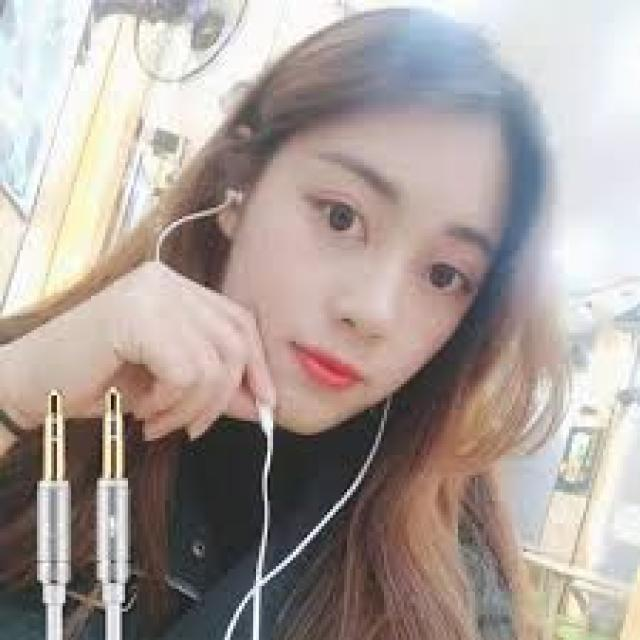earphone: (210, 168, 251, 222)
